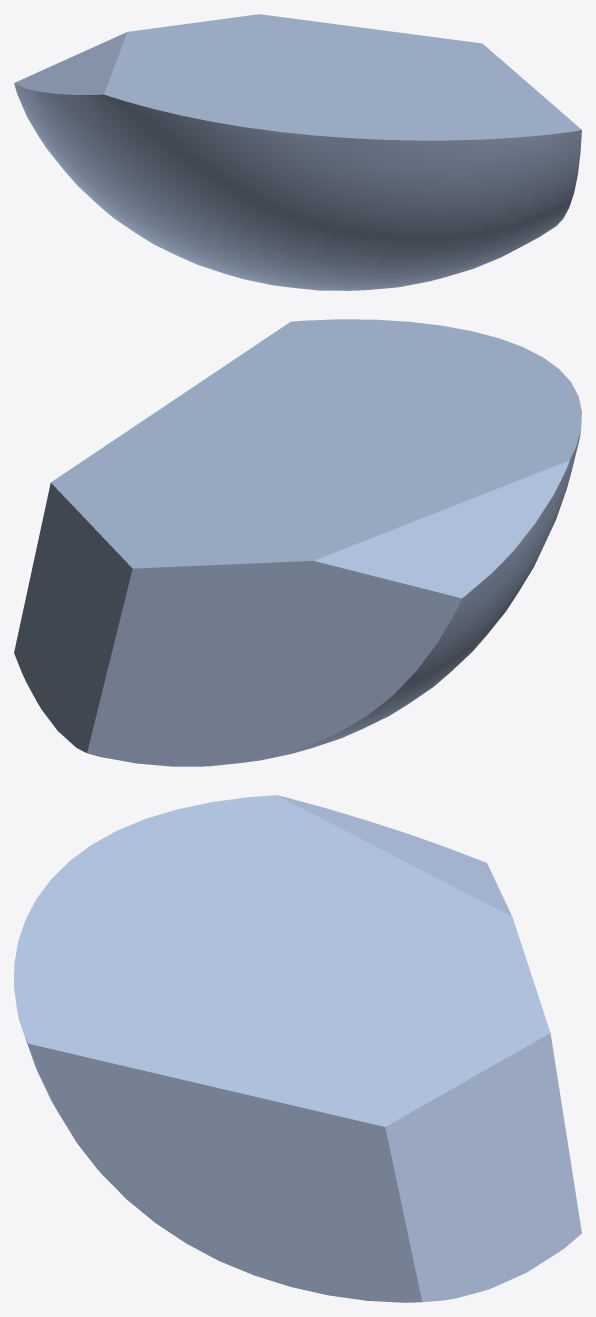
The model's file is Ball2_6.fbx.
3 views of the same model, one above another, from view 1: azimuth 30°, elevation 25°; view 2: azimuth 150°, elevation 25°; view 3: azimuth 270°, elevation 25° (orthographic). The views are drawn at different scales.
Parts seen in each view (by area): view 1: Cube_cell.071; view 2: Cube_cell.071; view 3: Cube_cell.071.
Part boxes in pixels (box(x1,y1,x2,y2)): Cube_cell.071: box(14, 14, 581, 290); Cube_cell.071: box(14, 319, 581, 766); Cube_cell.071: box(14, 795, 581, 1302).
Bounding box in the file's own units: 121 × 70.51 × 118.
